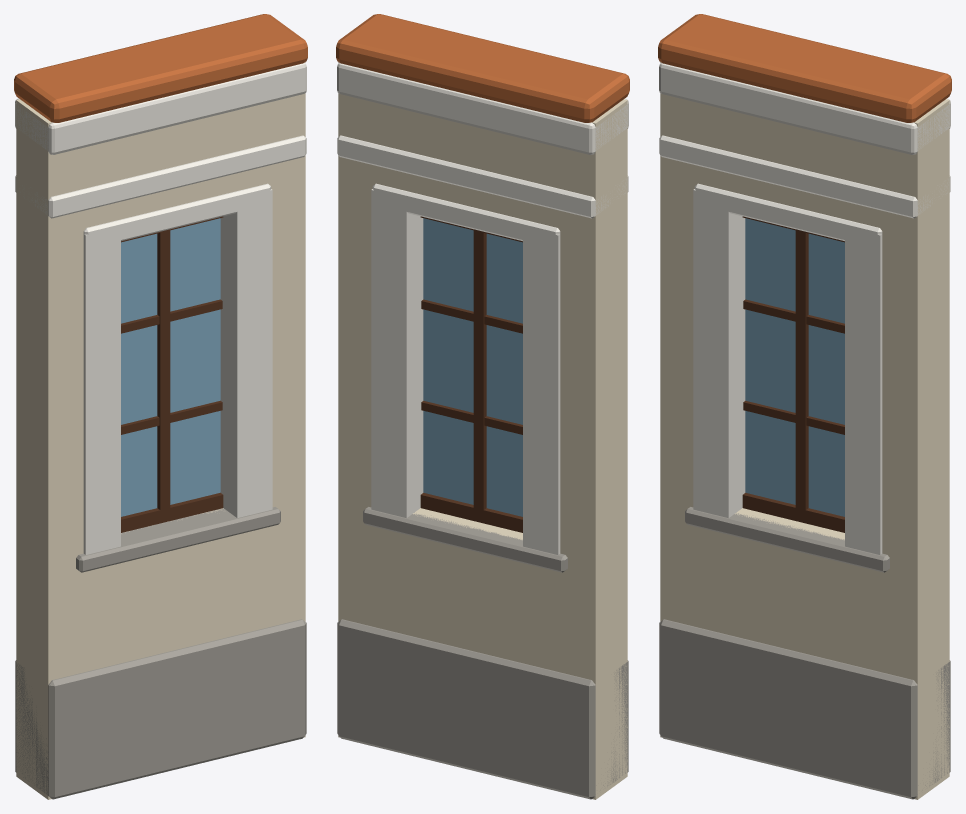
The model's file is parede_colonial_janela.glb.
The picture shows the model from 3 angles, left to right: view 1: azimuth 30°, elevation 25°; view 2: azimuth 150°, elevation 25°; view 3: azimuth 330°, elevation 25°; orthographic projection.
Parts seen in each view (by area): view 1: parede_colonial_janela; view 2: parede_colonial_janela; view 3: parede_colonial_janela.
Part boxes in pixels (bbox=[...]): parede_colonial_janela: bbox=[14, 14, 307, 799]; parede_colonial_janela: bbox=[336, 14, 629, 799]; parede_colonial_janela: bbox=[658, 14, 951, 799].
Bounding box in the file's own units: 1.02 × 2.65 × 0.29.
